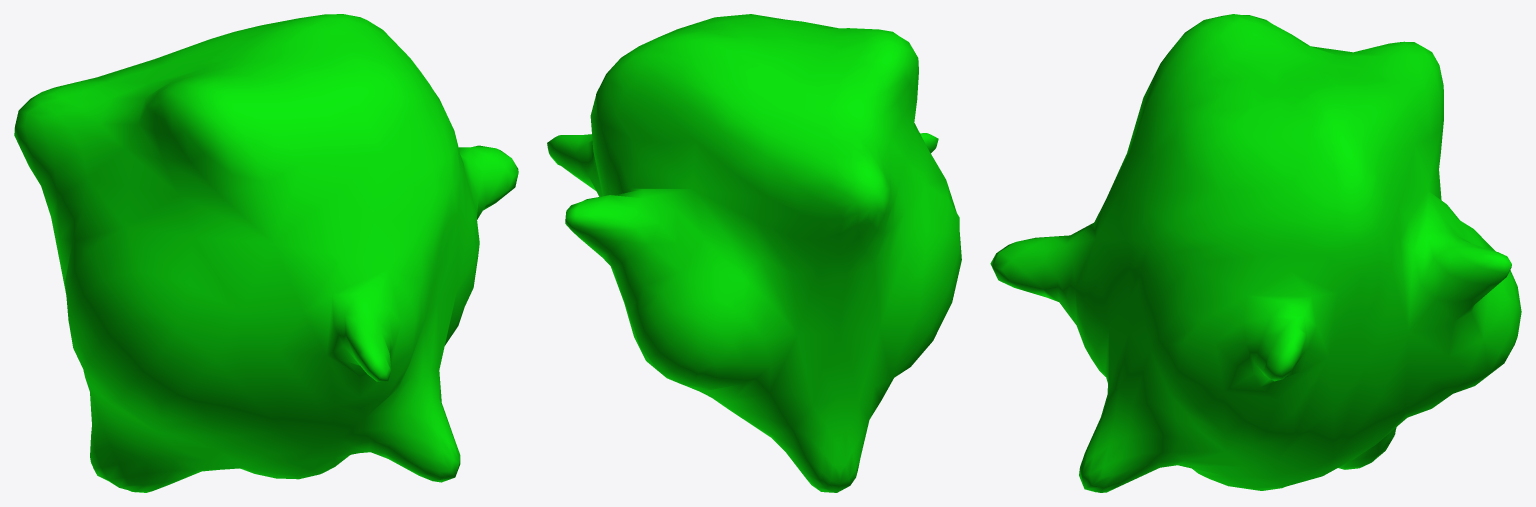
Rendered from basicEnemy_bacteriaDemo.fbx.
The picture shows the model from 3 angles, left to right: view 1: azimuth 30°, elevation 25°; view 2: azimuth 150°, elevation 25°; view 3: azimuth 270°, elevation 25°; orthographic projection. The views are drawn at different scales.
Visible parts, largest first — view 1: BASIC CREATURE; view 2: BASIC CREATURE; view 3: BASIC CREATURE.
Boxes of the visible parts, bbox=[...] form: BASIC CREATURE: bbox=[14, 14, 518, 492]; BASIC CREATURE: bbox=[547, 14, 961, 492]; BASIC CREATURE: bbox=[990, 14, 1521, 492].
Bounding box in the file's own units: 1277 × 1260 × 1343.
